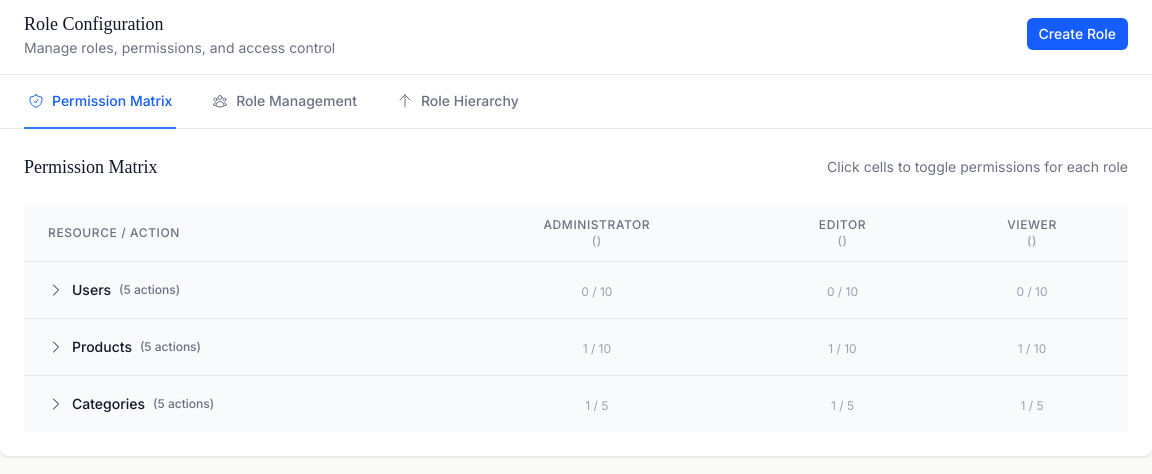
RoleConfigurationInterface › displays role cards in role management tab
# Switch to Role Management tab
What coordinates should you click on to do the following:
click the button "Role Management"
I would click on:
 (285, 102)
Its box is [208,75,361,129].
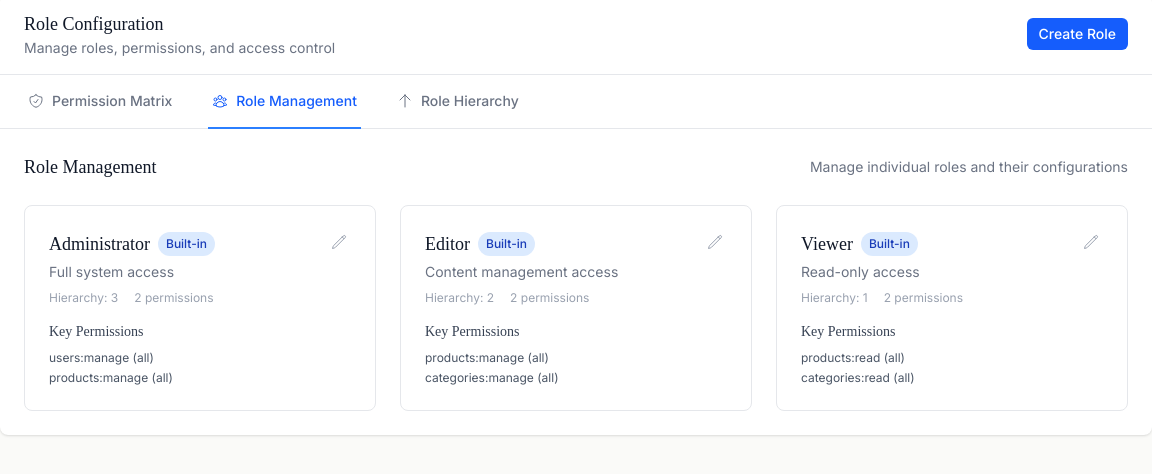
Expected: the text "Full system access" is shown, [49,263,174,280]
Expected: the text "Content management access" is shown, [425,263,618,280]
Expected: the text "Read-only access" is shown, [801,263,920,280]
